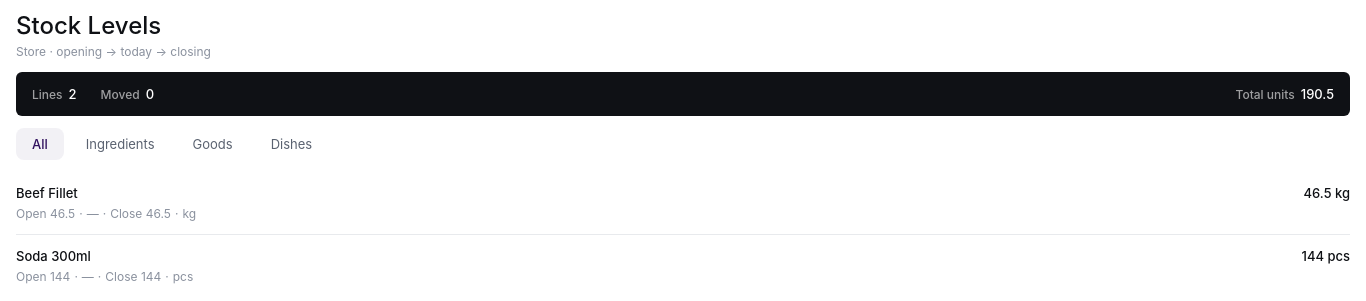
Test: Stock Levels — the pill set is a prop (M2-3d) › SM 'Dishes' pill still narrows by kind (unchanged behaviour)
The image size is (1366, 301).
Expected: the text "Beef Fillet" is shown, [16,184,78,202]
Click the radio button labelled "Dishes".
click(291, 144)  # box [255,128,328,160]
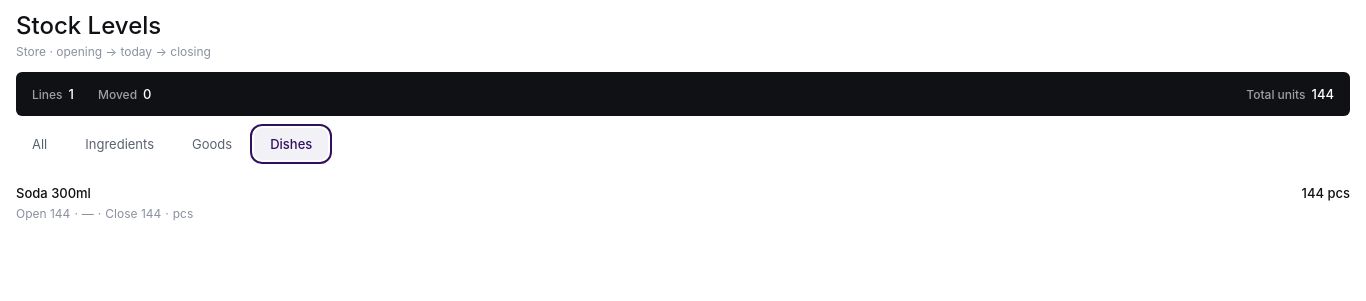
Expected: the text "Soda 300ml" is shown, [16,184,91,202]
Now the text "Beef Fillet" is gone
